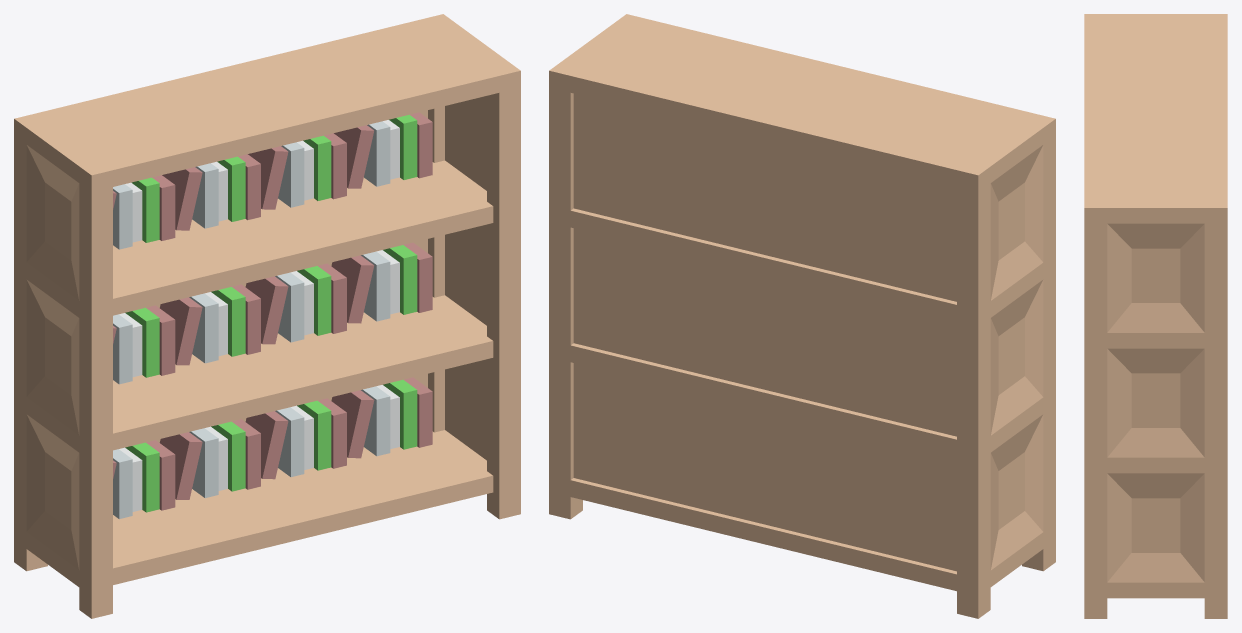
Rendered from library_shelf.glb.
3 renders of one model, left to right at view 1: azimuth 30°, elevation 25°; view 2: azimuth 150°, elevation 25°; view 3: azimuth 270°, elevation 25°, orthographic. The views are drawn at different scales.
Visible parts, largest first — view 1: bookcaseClosedWide(Clone), books(Clone) (×12); view 2: bookcaseClosedWide(Clone); view 3: bookcaseClosedWide(Clone).
Boxes of the visible parts, x1,y1,x2,y2 form: bookcaseClosedWide(Clone): (14, 14, 520, 618); books(Clone) (×12): (113, 112, 432, 518); bookcaseClosedWide(Clone): (549, 14, 1055, 618); bookcaseClosedWide(Clone): (1084, 14, 1227, 618).
Size of the model in its own units: 1.64 by 1.62 by 0.5125.
